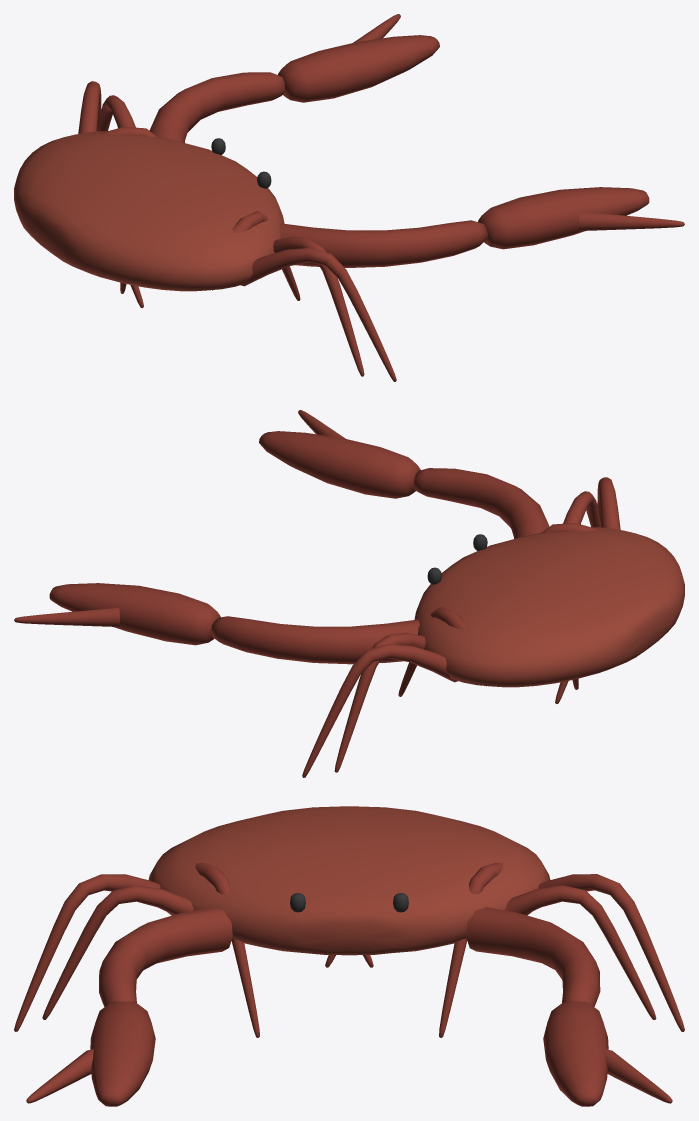
File: red_rock_crab.glb
3 views of the same model, one above another, from view 1: azimuth 30°, elevation 25°; view 2: azimuth 150°, elevation 25°; view 3: azimuth 270°, elevation 25° (orthographic). The views are drawn at different scales.
Visible parts, largest first — view 1: red_rock_crab; view 2: red_rock_crab; view 3: red_rock_crab.
Part boxes in pixels (bbox=[...]): red_rock_crab: bbox=[14, 14, 684, 381]; red_rock_crab: bbox=[14, 410, 684, 777]; red_rock_crab: bbox=[14, 806, 684, 1106].
Size of the model in its own units: 0.2255 by 0.0529 by 0.2345.
